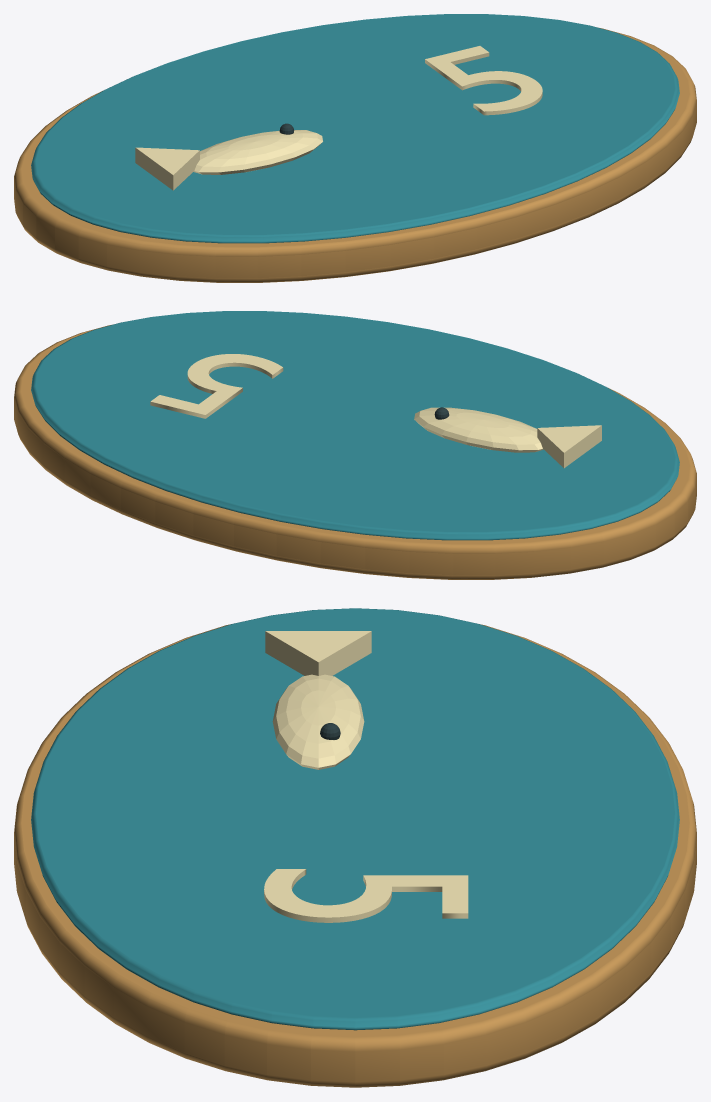
File: ground-5.fbx
The picture shows the model from 3 angles, top to bottom: view 1: azimuth 30°, elevation 25°; view 2: azimuth 150°, elevation 25°; view 3: azimuth 270°, elevation 25°; orthographic projection. The views are drawn at different scales.
Parts seen in each view (by area): view 1: ground-5; view 2: ground-5; view 3: ground-5.
Boxes of the visible parts, left/top/right/bottom form: ground-5: left=14, top=14, right=696, bottom=282; ground-5: left=14, top=311, right=696, bottom=579; ground-5: left=14, top=608, right=696, bottom=1087.
Size of the model in its own units: 2.8 by 0.288 by 1.85.
